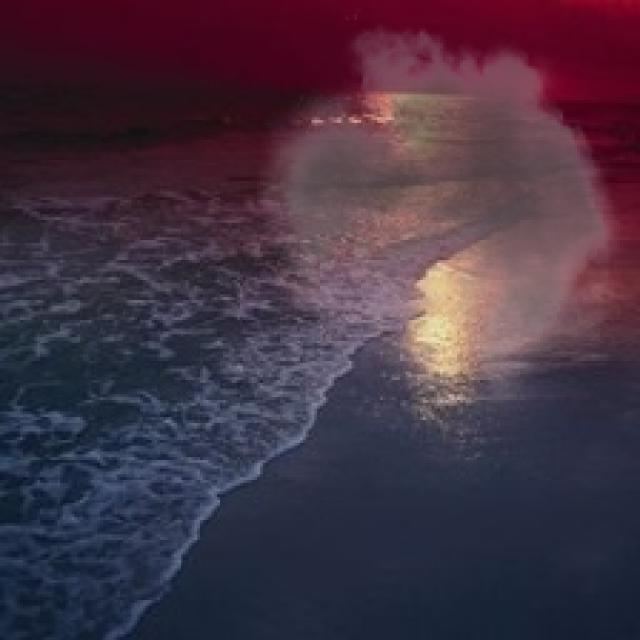smoke: (257, 8, 634, 406)
